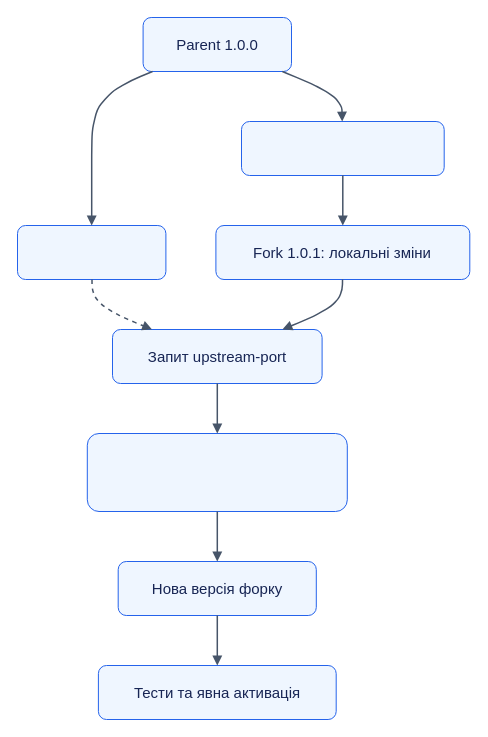
This 488x737 diagram has some shape labels left out. Here are the shapes that lost their labels. From the top down, the box of each, then its label:
(240, 120, 444, 176): Fork 1.0.0 + fork_of
(16, 224, 166, 280): Parent 1.1.0
(86, 432, 347, 512): Diff + перевірка конфліктів
